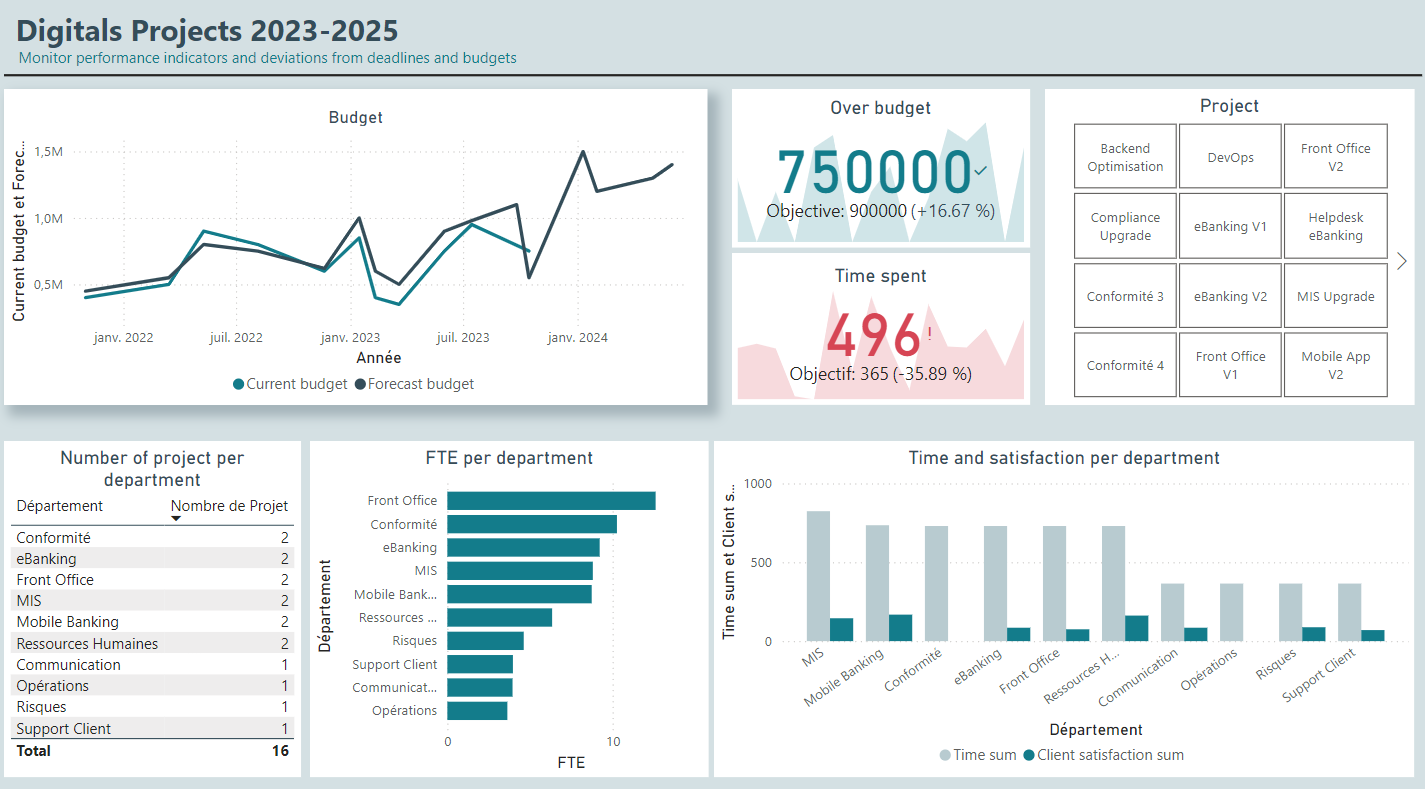

Layout of this report page (visuals, bound fields, positions):
{"tool":"powerbi","page":{"name":"Project steering","canvas":[1280,720],"ordinal":1},"visuals":[{"type":"shape","box":[4.9,12.6,1270.3,129.4],"z":0},{"type":"textbox","box":[9.7,12.6,1270.3,61.3],"z":1000},{"type":"lineChart","title":"Budget","fields":{"Category":["Worksheet.Début.Variation.Hiérarchie de dates.Année"],"Y":["Sum(Worksheet.Budget réel)","Sum(Worksheet.Budget prévu)"]},"box":[4.9,89.5,630.3,283],"z":2000},{"type":"kpi","title":"Over budget","fields":{"TrendLine":["Worksheet.Projet"],"Indicator":["Sum(Worksheet.Budget réel)"],"Goal":["Sum(Worksheet.Budget prévu)"]},"box":[656.5,89.5,266.5,142],"z":3000},{"type":"kpi","title":"Time spent","fields":{"TrendLine":["Worksheet.Projet"],"Indicator":["Sum(Worksheet.Temps passé (jours))"],"Goal":["Sum(Worksheet.Délai (jours))"]},"box":[656.5,236.4,266.5,136.2],"z":4000},{"type":"slicer","title":"Project","fields":{"Values":["Worksheet.Projet"]},"box":[936.7,89.5,330.7,283],"z":5000},{"type":"tableEx","title":"Number of project per department","fields":{"Values":["Worksheet.Département","CountNonNull(Worksheet.Projet)"]},"box":[4.9,404.6,265.5,300.5],"z":6000},{"type":"barChart","title":"FTE per department","fields":{"Category":["Worksheet.Département"],"Y":["Sum(Worksheet.FTE)"]},"box":[278.2,404.6,357,300.5],"z":7000},{"type":"textbox","box":[12.6,47.7,614.7,41.8],"z":8000},{"type":"tableEx","fields":{"Values":["Worksheet.Projet","Worksheet.Département","Worksheet.Risque (%)","Worksheet.Satisfaction client","Worksheet.Budget gap","Worksheet.Délai (jours)"]},"box":[656.5,404.6,610.8,301.5],"z":9000}]}

Visuals, with their boxes in screenshot pixels (x1, y1, x2, y2), scaled from the page's 1280x720 canvas onto the 1425x789 screenshot:
shape: 5 14 1420 156
textbox: 11 14 1424 81
"Budget" lineChart: 5 98 707 408
"Over budget" kpi: 731 98 1028 254
"Time spent" kpi: 731 259 1028 408
"Project" slicer: 1043 98 1411 408
"Number of project per department" tableEx: 5 443 301 773
"FTE per department" barChart: 310 443 707 773
textbox: 14 52 698 98
tableEx - Worksheet.Projet x Worksheet.Département: 731 443 1411 774
